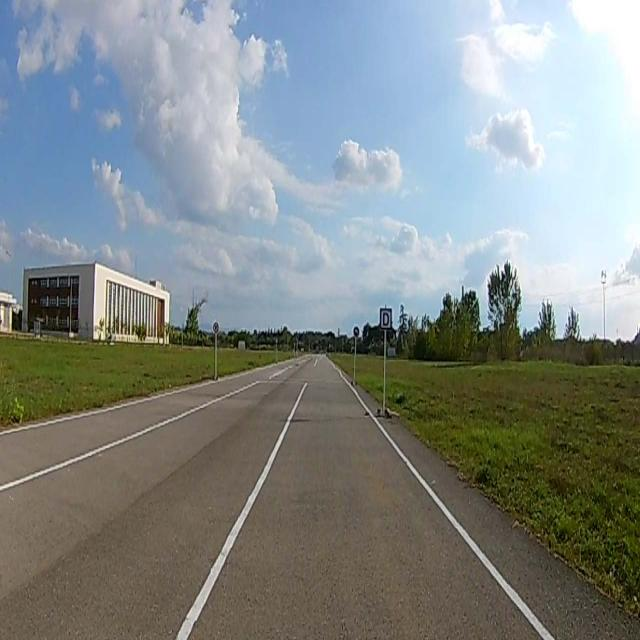durak: (380, 308, 392, 331)
